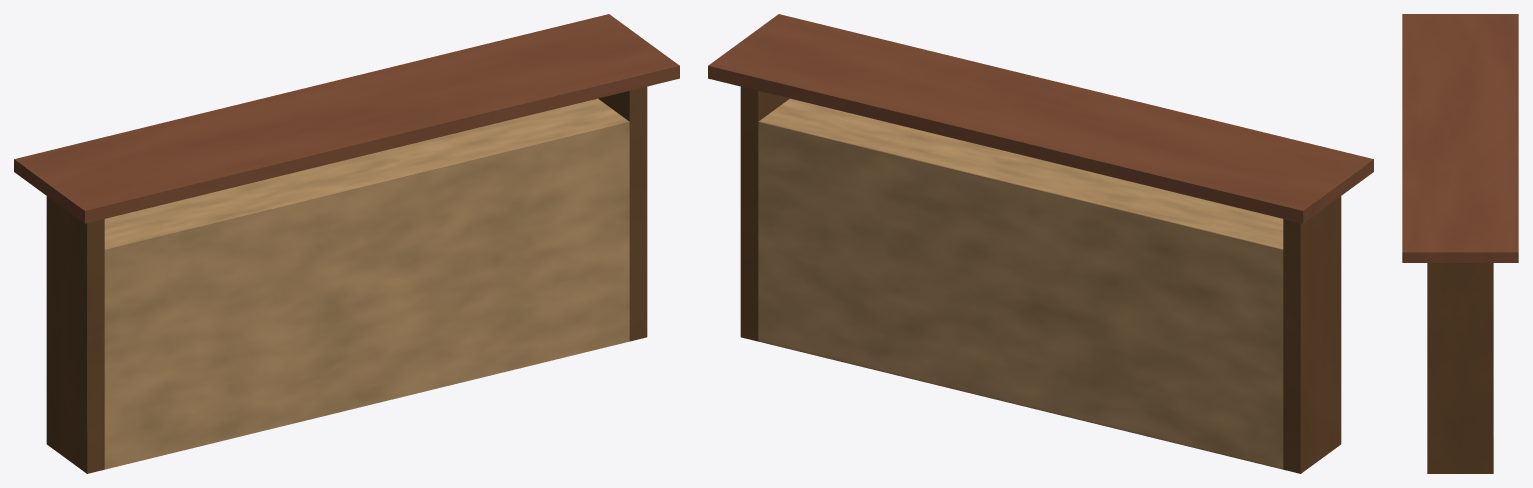
The model's file is drivi_f294556a.glb.
3 views of the same model, side by side, from view 1: azimuth 30°, elevation 25°; view 2: azimuth 150°, elevation 25°; view 3: azimuth 270°, elevation 25° (orthographic). The views are drawn at different scales.
Visible parts, largest first — view 1: dum; view 2: dum; view 3: dum.
Part boxes in pixels (left/top/right/bottom): dum: left=14, top=14, right=679, bottom=473; dum: left=708, top=14, right=1373, bottom=473; dum: left=1402, top=14, right=1518, bottom=473.
Size of the model in its own units: 3.39 by 1.52 by 0.6982.
Materials: 1 (1 with a texture image).
